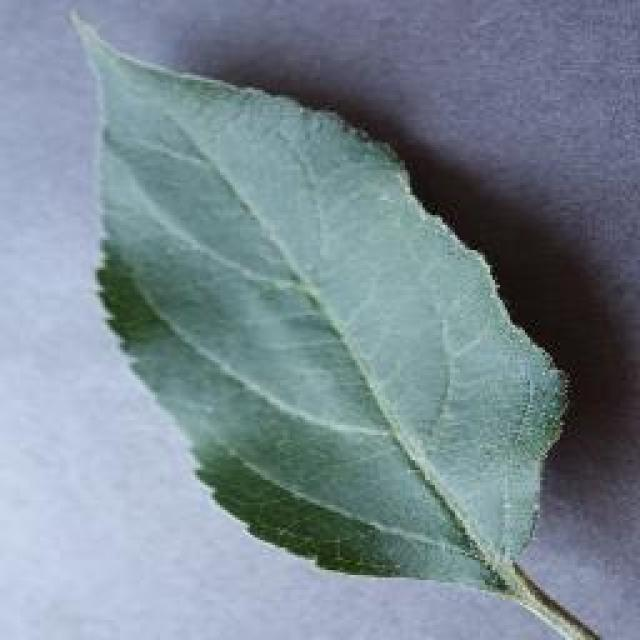apple healthy: (65, 5, 625, 637)
